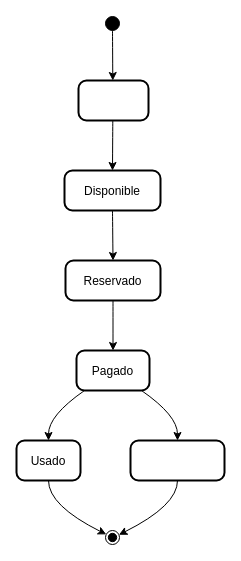
This 241x561 diagram has some shape labels left out. The centre of each missing label's shape, as x and y in pixels:
Cancelado: the point at 177,460
Creado: the point at 113,100
